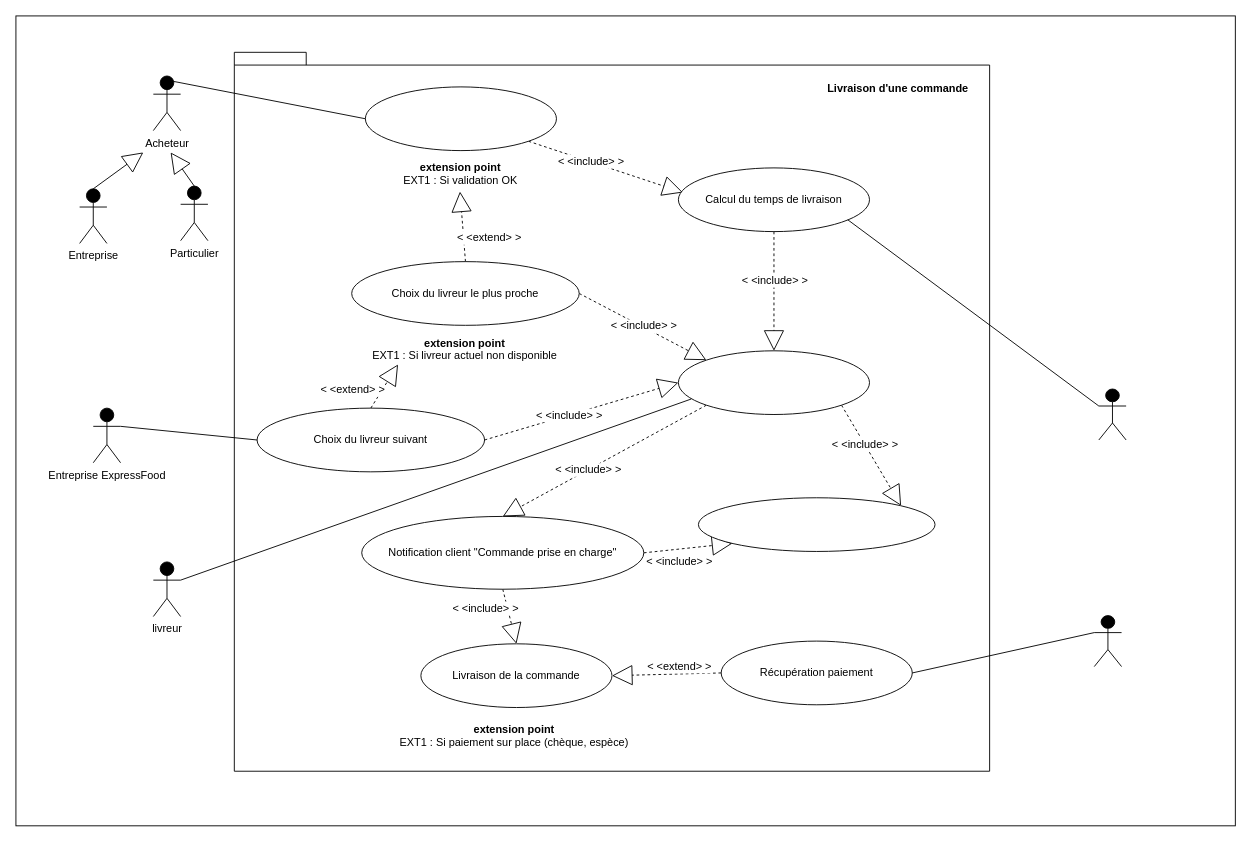
Image size: 1251x842. Some labels were removed from this diagram. Each missing label, with the centre of its shape:
"<<système>> système de géolocalisation" goes at pixel 1112 414.
"<<système>> système de paiement" goes at pixel 1107 641.
"Livraison acceptée" goes at pixel 773 382.
"Redirection page temps de livraison" goes at pixel 816 524.
"Validation de la commande" goes at pixel 460 118.
